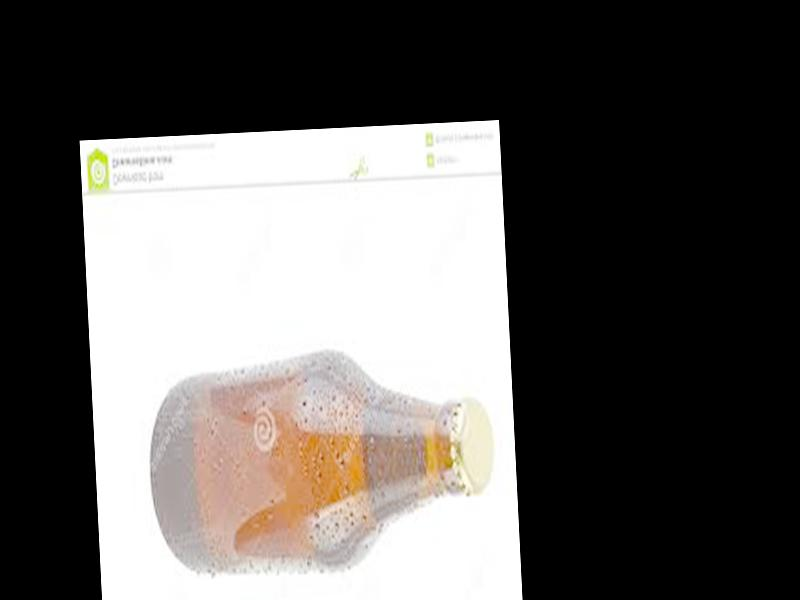Beer: (146, 343, 497, 580)
